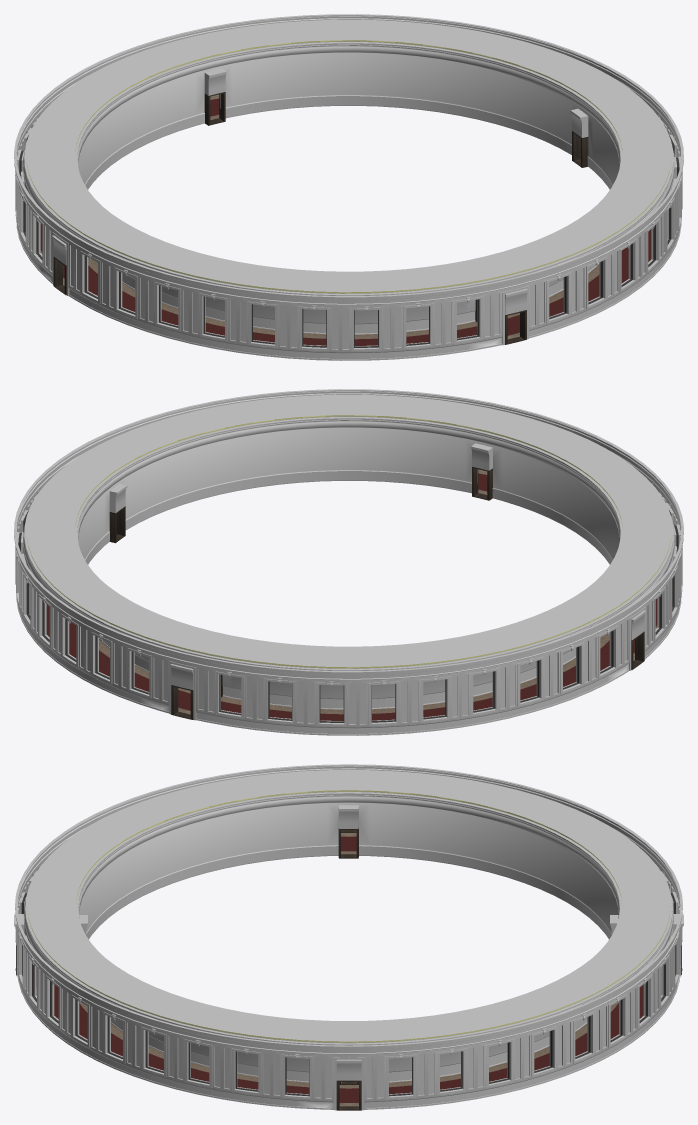
The model's file is Royal_Hall_Section_1.FBX.
3 views of the same model, one above another, from view 1: azimuth 30°, elevation 25°; view 2: azimuth 150°, elevation 25°; view 3: azimuth 270°, elevation 25° (orthographic).
Parts seen in each view (by area): view 1: Royal_Hall_Section_1; view 2: Royal_Hall_Section_1; view 3: Royal_Hall_Section_1.
Boxes of the visible parts, box(x1,y1,x2,y2) form: Royal_Hall_Section_1: box(14, 14, 683, 360); Royal_Hall_Section_1: box(14, 389, 683, 735); Royal_Hall_Section_1: box(14, 764, 683, 1110).
Bounding box in the file's own units: 55.99 × 5.93 × 55.99.
